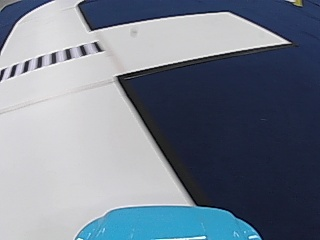CrossWalk: (7, 41, 98, 74)
